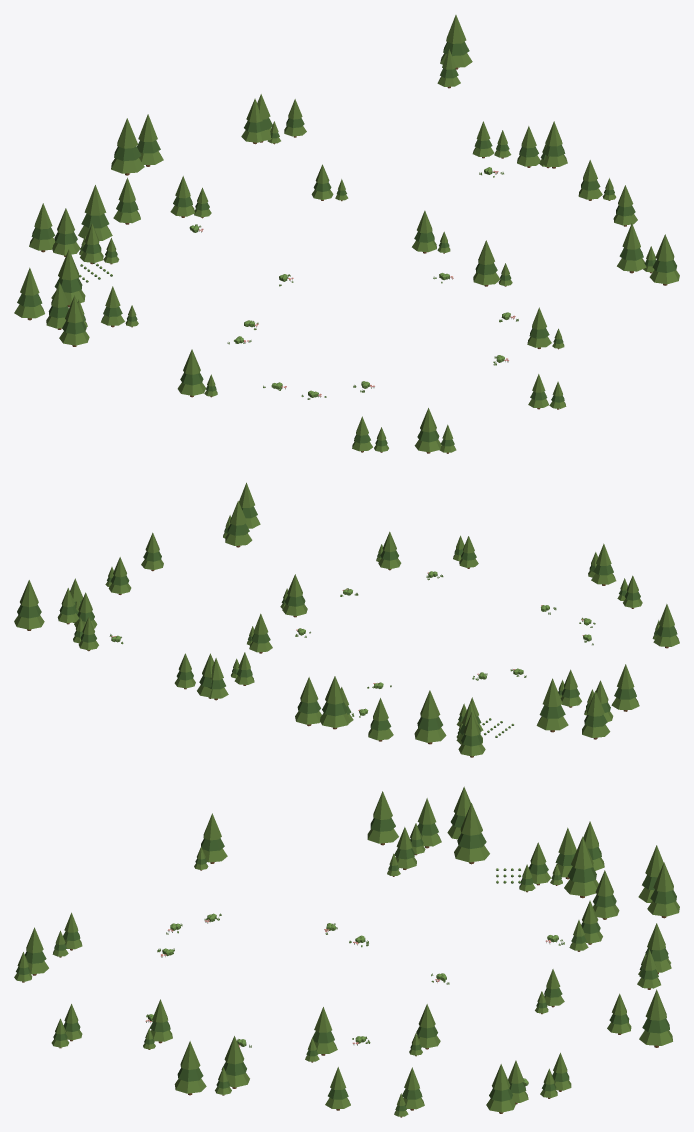
File: vegetation.glb
3 renders of one model, top to bottom at view 1: azimuth 30°, elevation 25°; view 2: azimuth 150°, elevation 25°; view 3: azimuth 270°, elevation 25°, orthographic. The views are drawn at different scales.
Parts seen in each view (by area): view 1: PineContext.006, PineContext.004, PineContext.001, PineContext.002, PineContext.014, PineContext, PineContext.011, Pine.016, PineContext.007, Pine.001, Pine.004, PineContext.003 (+5 smaller); view 2: PineContext.004, PineContext.006, PineContext.002, PineContext.011, PineContext.001, PineContext.007, PineContext, Pine.016, PineContext.003, Pine.004, PineContext.005, Pine.009 (+10 smaller); view 3: PineContext.002, PineContext.004, PineContext.011, PineContext.007, PineContext.014, PineContext, PineContext.012, Pine.016, PineContext.005, Pine.004, Pine.009, Pine.003 (+16 smaller).
Part boxes in pixels (x1,y1,x2,y2): PineContext.006: (111,118,144,175); PineContext.004: (78,185,112,240); PineContext.001: (14,267,44,320); PineContext.002: (51,249,85,307); PineContext.014: (649,234,679,285); PineContext: (59,295,89,346); PineContext.011: (440,15,472,69); Pine.016: (617,223,646,273); PineContext.007: (137,114,163,166); Pine.001: (52,208,80,256); Pine.004: (177,349,205,397); PineContext.003: (29,203,55,252); PineContext.004: (414,690,446,744); PineContext.006: (320,676,350,729); PineContext.002: (536,678,568,732); PineContext.011: (14,580,44,630); PineContext.001: (582,690,610,739); PineContext.007: (295,677,321,726); PineContext: (611,664,639,711); Pine.016: (225,501,252,547); PineContext.003: (458,712,485,757); Pine.004: (653,604,679,648); PineContext.005: (368,698,393,741); Pine.009: (282,574,307,617); PineContext.002: (454,803,489,864); PineContext.004: (564,836,598,898); PineContext.011: (639,989,672,1047); PineContext.007: (647,862,679,918); PineContext.014: (174,1041,206,1095); PineContext: (367,791,398,845); PineContext.012: (486,1064,515,1113); Pine.016: (221,1036,249,1088); PineContext.005: (593,870,619,919); Pine.004: (201,813,227,863); Pine.009: (312,1007,337,1055); Pine.003: (417,798,441,848).
Bounding box in the file's own units: 93.39 × 22.59 × 89.92.
